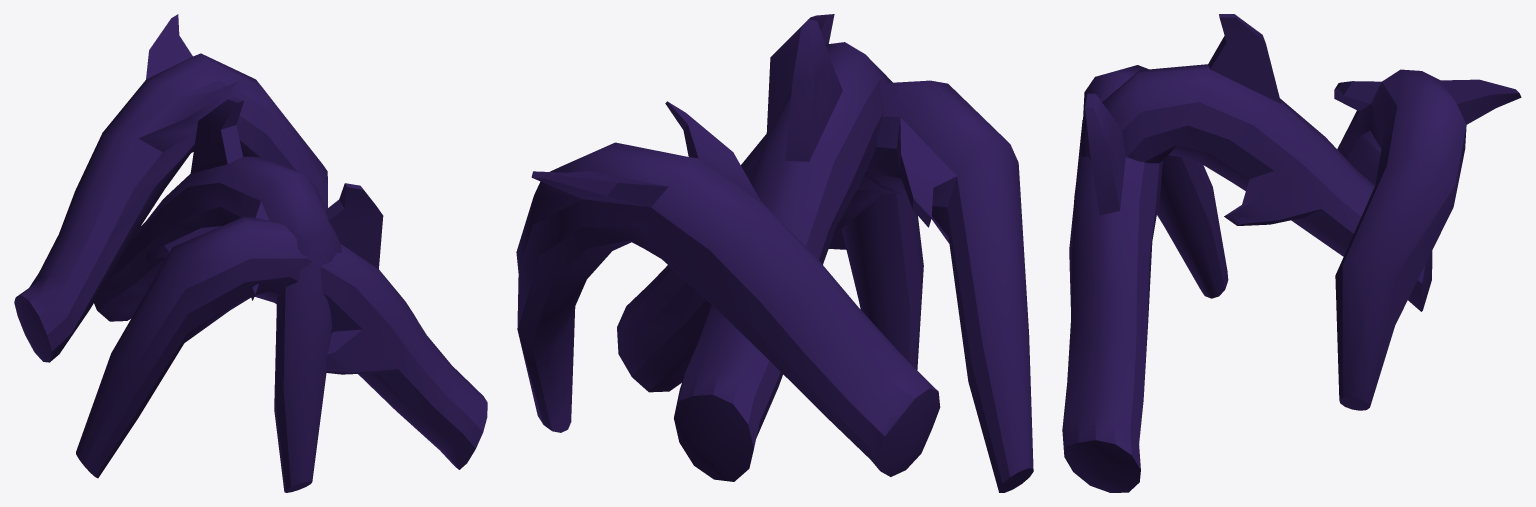
Rendered from Smallroots.fbx.
3 renders of one model, left to right at view 1: azimuth 30°, elevation 25°; view 2: azimuth 150°, elevation 25°; view 3: azimuth 270°, elevation 25°, orthographic. The views are drawn at different scales.
Parts seen in each view (by area): view 1: pCylinder9, pCylinder8, pCylinder7; view 2: pCylinder8, pCylinder9, pCylinder7; view 3: pCylinder9, pCylinder7, pCylinder8.
Boxes of the visible parts, <box> form: pCylinder9: <box>76,183,487,478</box>; pCylinder8: <box>14,14,327,362</box>; pCylinder7: <box>94,97,341,492</box>; pCylinder8: <box>516,101,940,476</box>; pCylinder9: <box>617,14,1033,492</box>; pCylinder7: <box>674,19,923,481</box>; pCylinder9: <box>1062,65,1228,492</box>; pCylinder7: <box>1069,14,1432,317</box>; pCylinder8: <box>1334,69,1521,410</box>.
Size of the model in its own units: 1.98 by 1.92 by 2.04.
